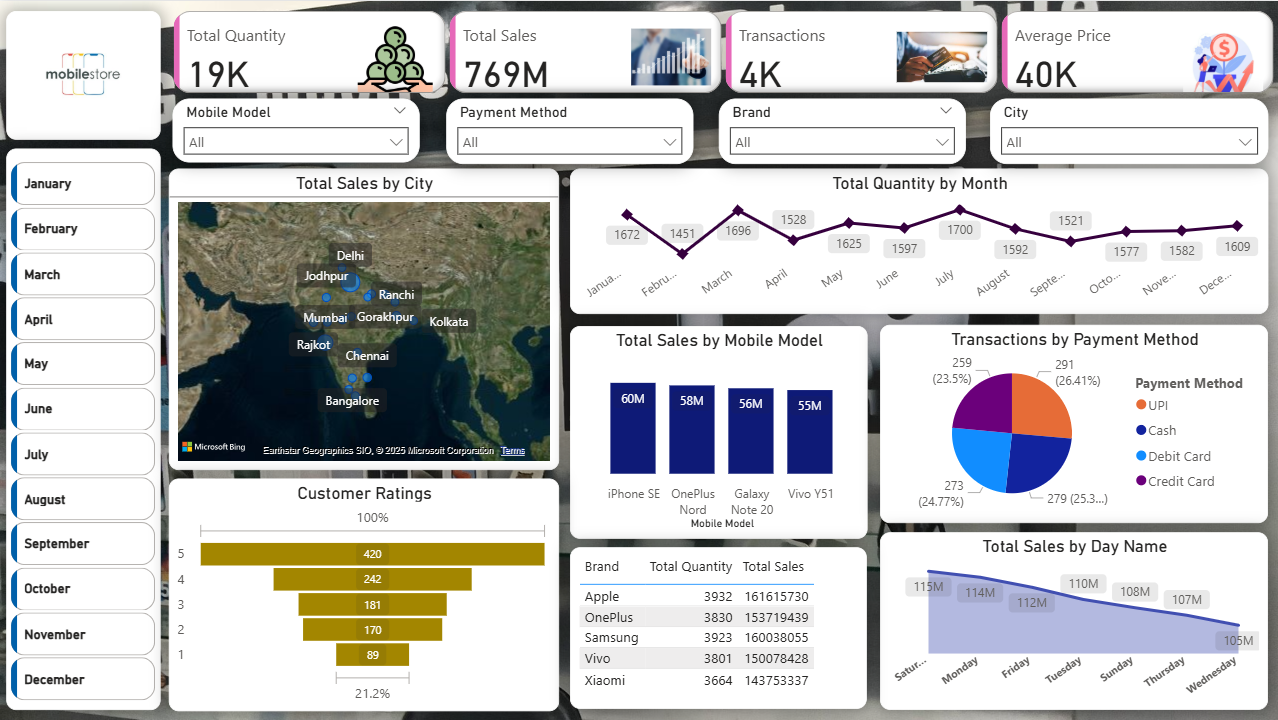

What the dashboard file says about the page in this screenshot:
{"tool":"powerbi","page":{"name":"Page 1","canvas":[1280,720],"ordinal":0},"visuals":[{"type":"shape","box":[5.7,10,154.3,128.6],"z":0},{"type":"shape","box":[5.7,147.1,154.3,561.4],"z":2000},{"type":"advancedSlicerVisual","fields":{"Values":["Sheet1.Date.Variation.Date Hierarchy.Month"]},"box":[5.7,155.7,154.3,552.9],"z":3000},{"type":"cardVisual","fields":{"Data":["Sales_Data.Total Quantity","Sales_Data.Total Sales","Sales_Data.Transactions","Sales_Data.Average Price"]},"box":[168.6,10,1111.4,87.1],"z":4000},{"type":"map","fields":{"Size":["Sales_Data.Total Sales"],"Category":["Sales_Data.City"]},"box":[168.6,167.1,390,301.4],"z":5000},{"type":"lineChart","fields":{"Category":["Sales_Data.Date.Variation.Date Hierarchy.Month","Sales_Data.Date.Variation.Date Hierarchy.Day"],"Y":["Sales_Data.Total Quantity"]},"box":[570,167.1,698.6,145.7],"z":6000},{"type":"clusteredColumnChart","fields":{"Category":["Sales_Data.Mobile Model"],"Y":["Sales_Data.Total Sales"]},"box":[570,325.5,297.3,212.7],"z":7000},{"type":"pieChart","fields":{"Category":["Sales_Data.Payment Method"],"Y":["Sales_Data.Transactions"]},"box":[880,324.2,388.3,198.3],"z":8000},{"type":"funnel","title":"Customer Ratings","fields":{"Category":["Sales_Data.Customer Ratings"],"Y":["CountNonNull(Sales_Data.Customer Ratings)"]},"box":[169,478,390,233],"z":9000},{"type":"areaChart","fields":{"Category":["Sales_Data.Day Name"],"Y":["Sales_Data.Total Sales"]},"box":[880,530.8,388.3,177.5],"z":9001},{"type":"tableEx","fields":{"Values":["Sales_Data.Brand","Sales_Data.Total Quantity","Sales_Data.Total Sales"]},"box":[570,546.7,296.7,161.7],"z":9002},{"type":"slicer","fields":{"Values":["Sales_Data.Mobile Model"]},"box":[172.9,97.1,247.1,64],"z":9003},{"type":"slicer","fields":{"Values":["Sales_Data.Payment Method"]},"box":[445.7,97.1,247.1,65.7],"z":9004},{"type":"slicer","fields":{"Values":["Sales_Data.Brand"]},"box":[718.6,97.1,247.1,65.7],"z":9005},{"type":"slicer","fields":{"Values":["Sales_Data.City"]},"box":[990,97.1,278.6,65.7],"z":9006},{"type":"image","box":[5.7,12.9,154.3,121.4],"z":9007}]}

Visuals, with their boxes in screenshot pixels (x1, y1, x2, y2), scaled from the page's 1280x720 canvas onto the 1278x720 screenshot:
shape: crop(6, 10, 160, 139)
shape: crop(6, 147, 160, 708)
advancedSlicerVisual - Sheet1.Date.Variation.Date Hierarchy.Month: crop(6, 156, 160, 709)
cardVisual - Sales_Data.Total Quantity x Sales_Data.Total Sales: crop(168, 10, 1277, 97)
map - Sales_Data.Total Sales x Sales_Data.City: crop(168, 167, 558, 468)
lineChart - Sales_Data.Date.Variation.Date Hierarchy.Month x Sales_Data.Date.Variation.Date Hierarchy.Day: crop(569, 167, 1267, 313)
clusteredColumnChart - Sales_Data.Mobile Model x Sales_Data.Total Sales: crop(569, 326, 866, 538)
pieChart - Sales_Data.Payment Method x Sales_Data.Transactions: crop(879, 324, 1266, 522)
"Customer Ratings" funnel: crop(169, 478, 558, 711)
areaChart - Sales_Data.Day Name x Sales_Data.Total Sales: crop(879, 531, 1266, 708)
tableEx - Sales_Data.Brand x Sales_Data.Total Quantity: crop(569, 547, 865, 708)
slicer - Sales_Data.Mobile Model: crop(173, 97, 419, 161)
slicer - Sales_Data.Payment Method: crop(445, 97, 692, 163)
slicer - Sales_Data.Brand: crop(717, 97, 964, 163)
slicer - Sales_Data.City: crop(988, 97, 1267, 163)
image: crop(6, 13, 160, 134)
